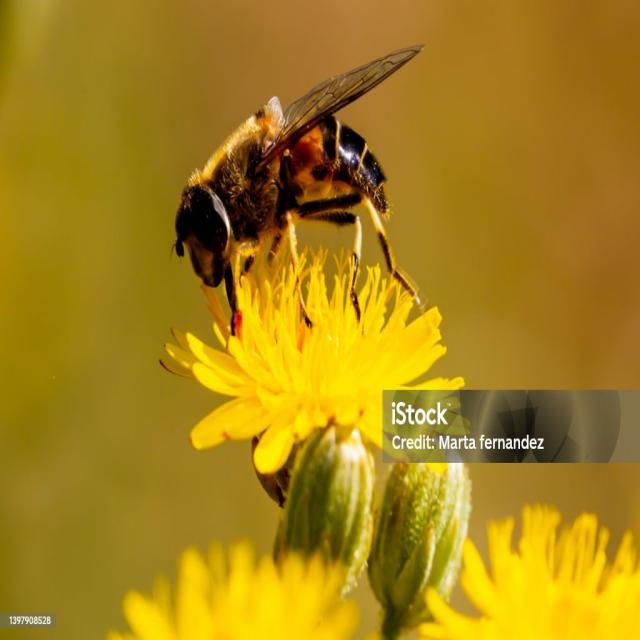hoverfly: (168, 41, 438, 336)
